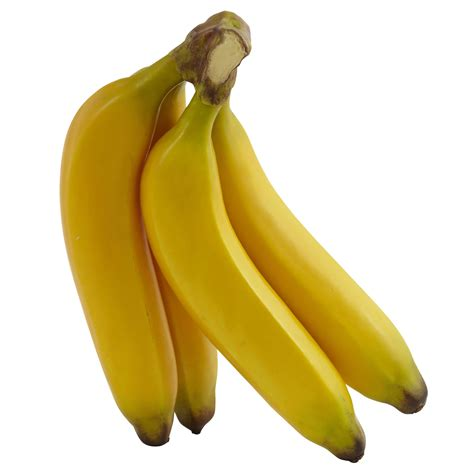???: (59, 10, 428, 463)
